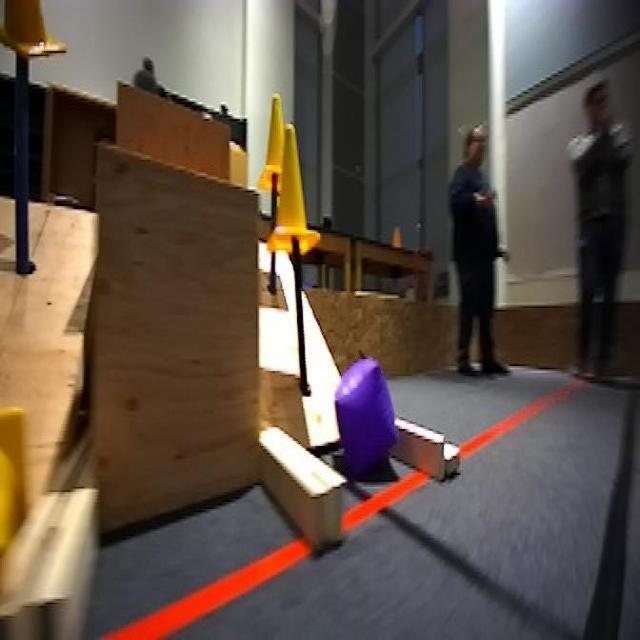frc_cone: (264, 128, 322, 255), (258, 87, 298, 194), (0, 407, 26, 568), (0, 0, 68, 60)
frc_cube: (332, 357, 399, 475)
